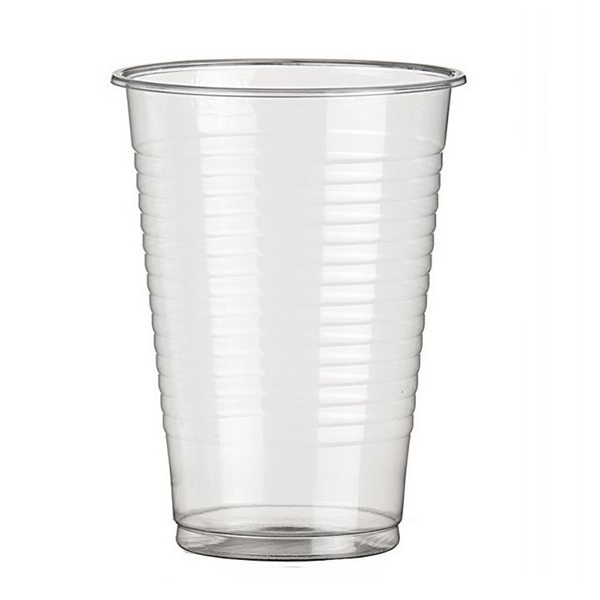plastic_glass: (69, 25, 519, 600)
